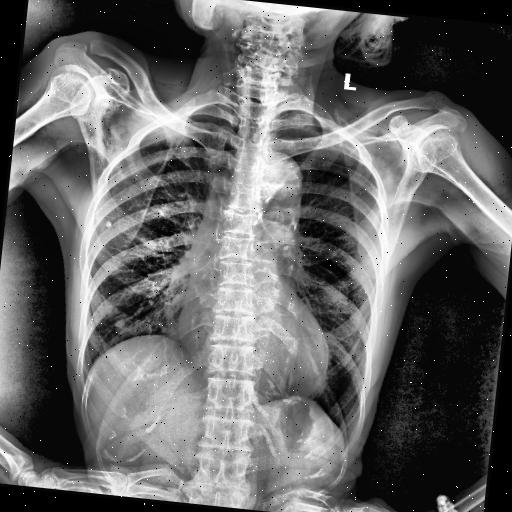0- Aortic enlargement: (245, 148, 306, 223), (250, 150, 306, 228), (249, 150, 306, 214)
8- Nodule-Mass: (113, 317, 128, 334), (104, 220, 111, 228)
